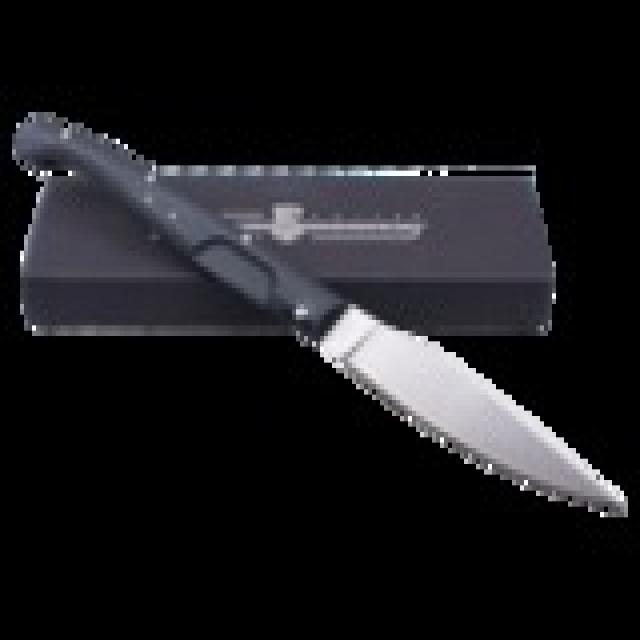Knife: (12, 78, 628, 520)
